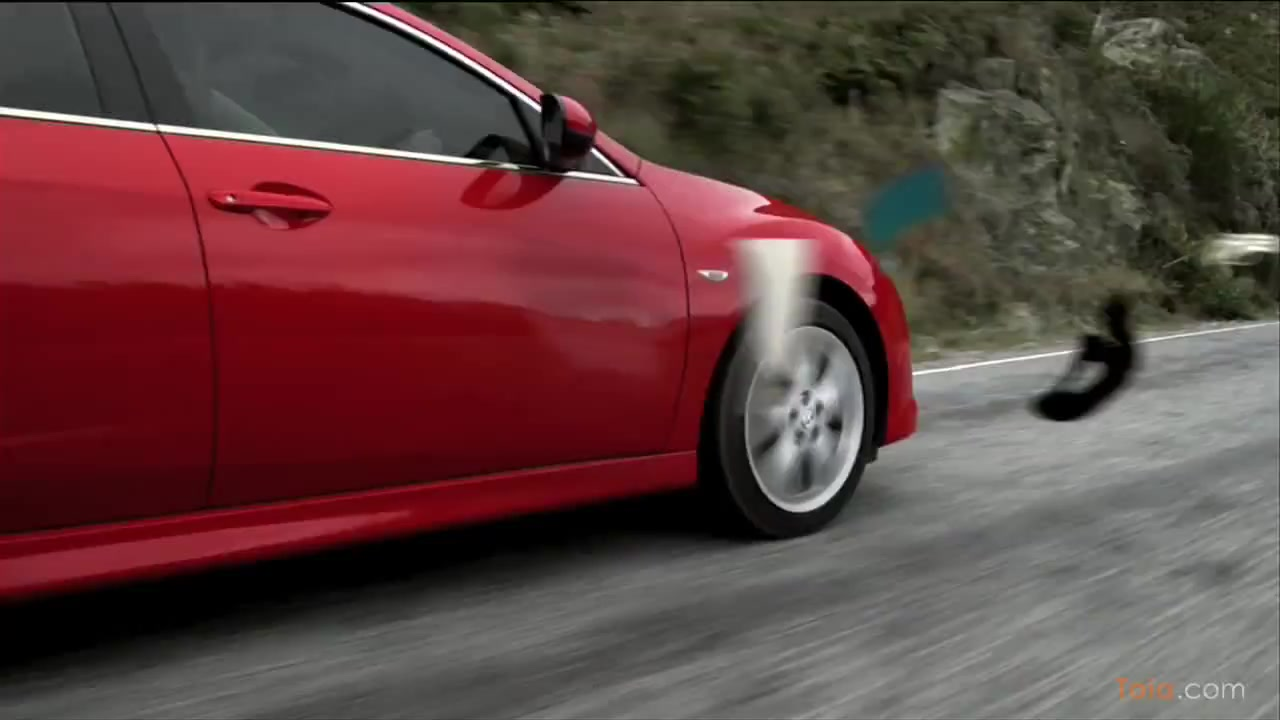car: (3, 1, 924, 603)
